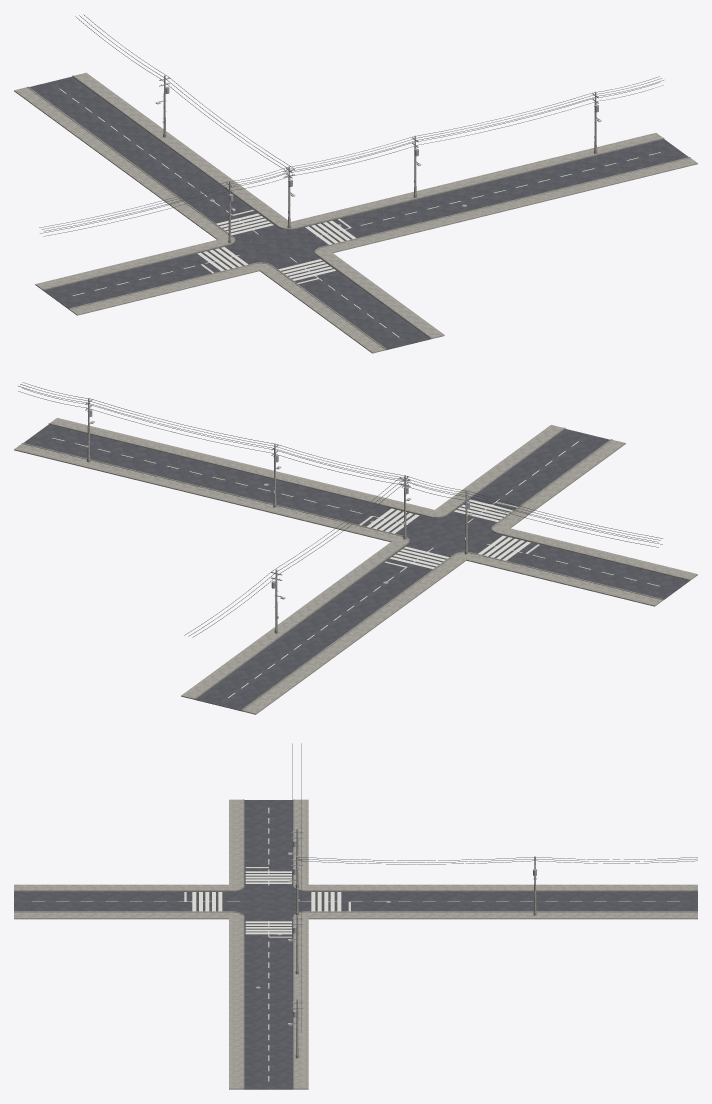
File: streets.glb
3 views of the same model, one above another, from view 1: azimuth 30°, elevation 25°; view 2: azimuth 150°, elevation 25°; view 3: azimuth 270°, elevation 25° (orthographic). The views are drawn at different scales.
Visible parts, largest first — view 1: corner_road_far_e, walk_arc_ne, kerb_arc_ne, wire_front_0_0_0, dash_front_0, pole_0, drain_front_0; view 2: corner_road_far_e, walk_arc_ne, kerb_arc_ne, wire_front_0_0_0, dash_front_0, pole_0, drain_front_0; view 3: corner_road_far_e, walk_arc_ne, kerb_arc_ne, dash_front_0, wire_front_0_0_0, pole_0, drain_front_0.
Part boxes in pixels (x1,y1,x2,y2): corner_road_far_e: (29, 76, 688, 349); walk_arc_ne: (14, 72, 697, 353); kerb_arc_ne: (27, 75, 690, 350); wire_front_0_0_0: (39, 14, 663, 236); dash_front_0: (59, 88, 660, 337); pole_0: (163, 76, 596, 239); drain_front_0: (84, 75, 620, 319); corner_road_far_e: (24, 424, 689, 710); walk_arc_ne: (14, 418, 697, 714); kerb_arc_ne: (22, 423, 690, 711); wire_front_0_0_0: (18, 382, 662, 637); dash_front_0: (52, 438, 659, 697); pole_0: (87, 399, 467, 630); drain_front_0: (64, 398, 618, 679); corner_road_far_e: (14, 800, 697, 1089); walk_arc_ne: (14, 799, 697, 1089); kerb_arc_ne: (14, 799, 697, 1089); dash_front_0: (32, 807, 679, 1081); wire_front_0_0_0: (292, 743, 697, 1032); pole_0: (296, 829, 536, 1055); drain_front_0: (60, 819, 651, 1068).
Size of the model in its own units: 84 by 8.05 by 84.
Materials: 12 (4 with a texture image).
